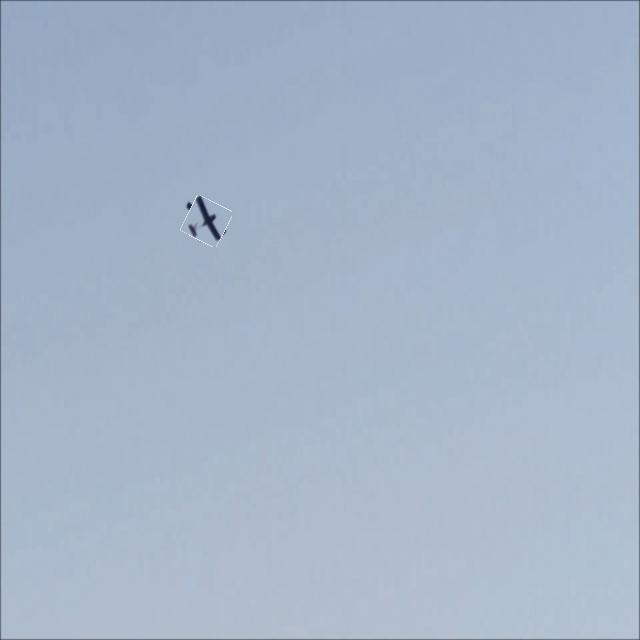Airplane: (179, 194, 235, 248)
